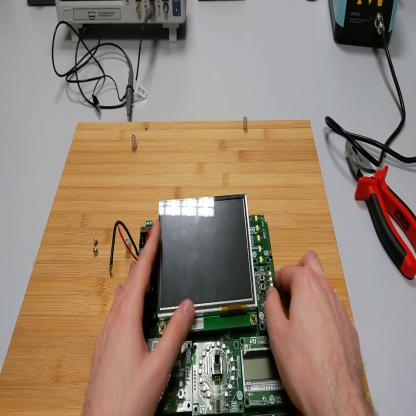hand: (82, 219, 195, 416), (266, 254, 369, 414)
low voltage board: (109, 204, 297, 415)
oscilloscope probe tip: (127, 48, 135, 118)
welder station: (330, 2, 400, 49)
working area: (1, 115, 373, 416)
